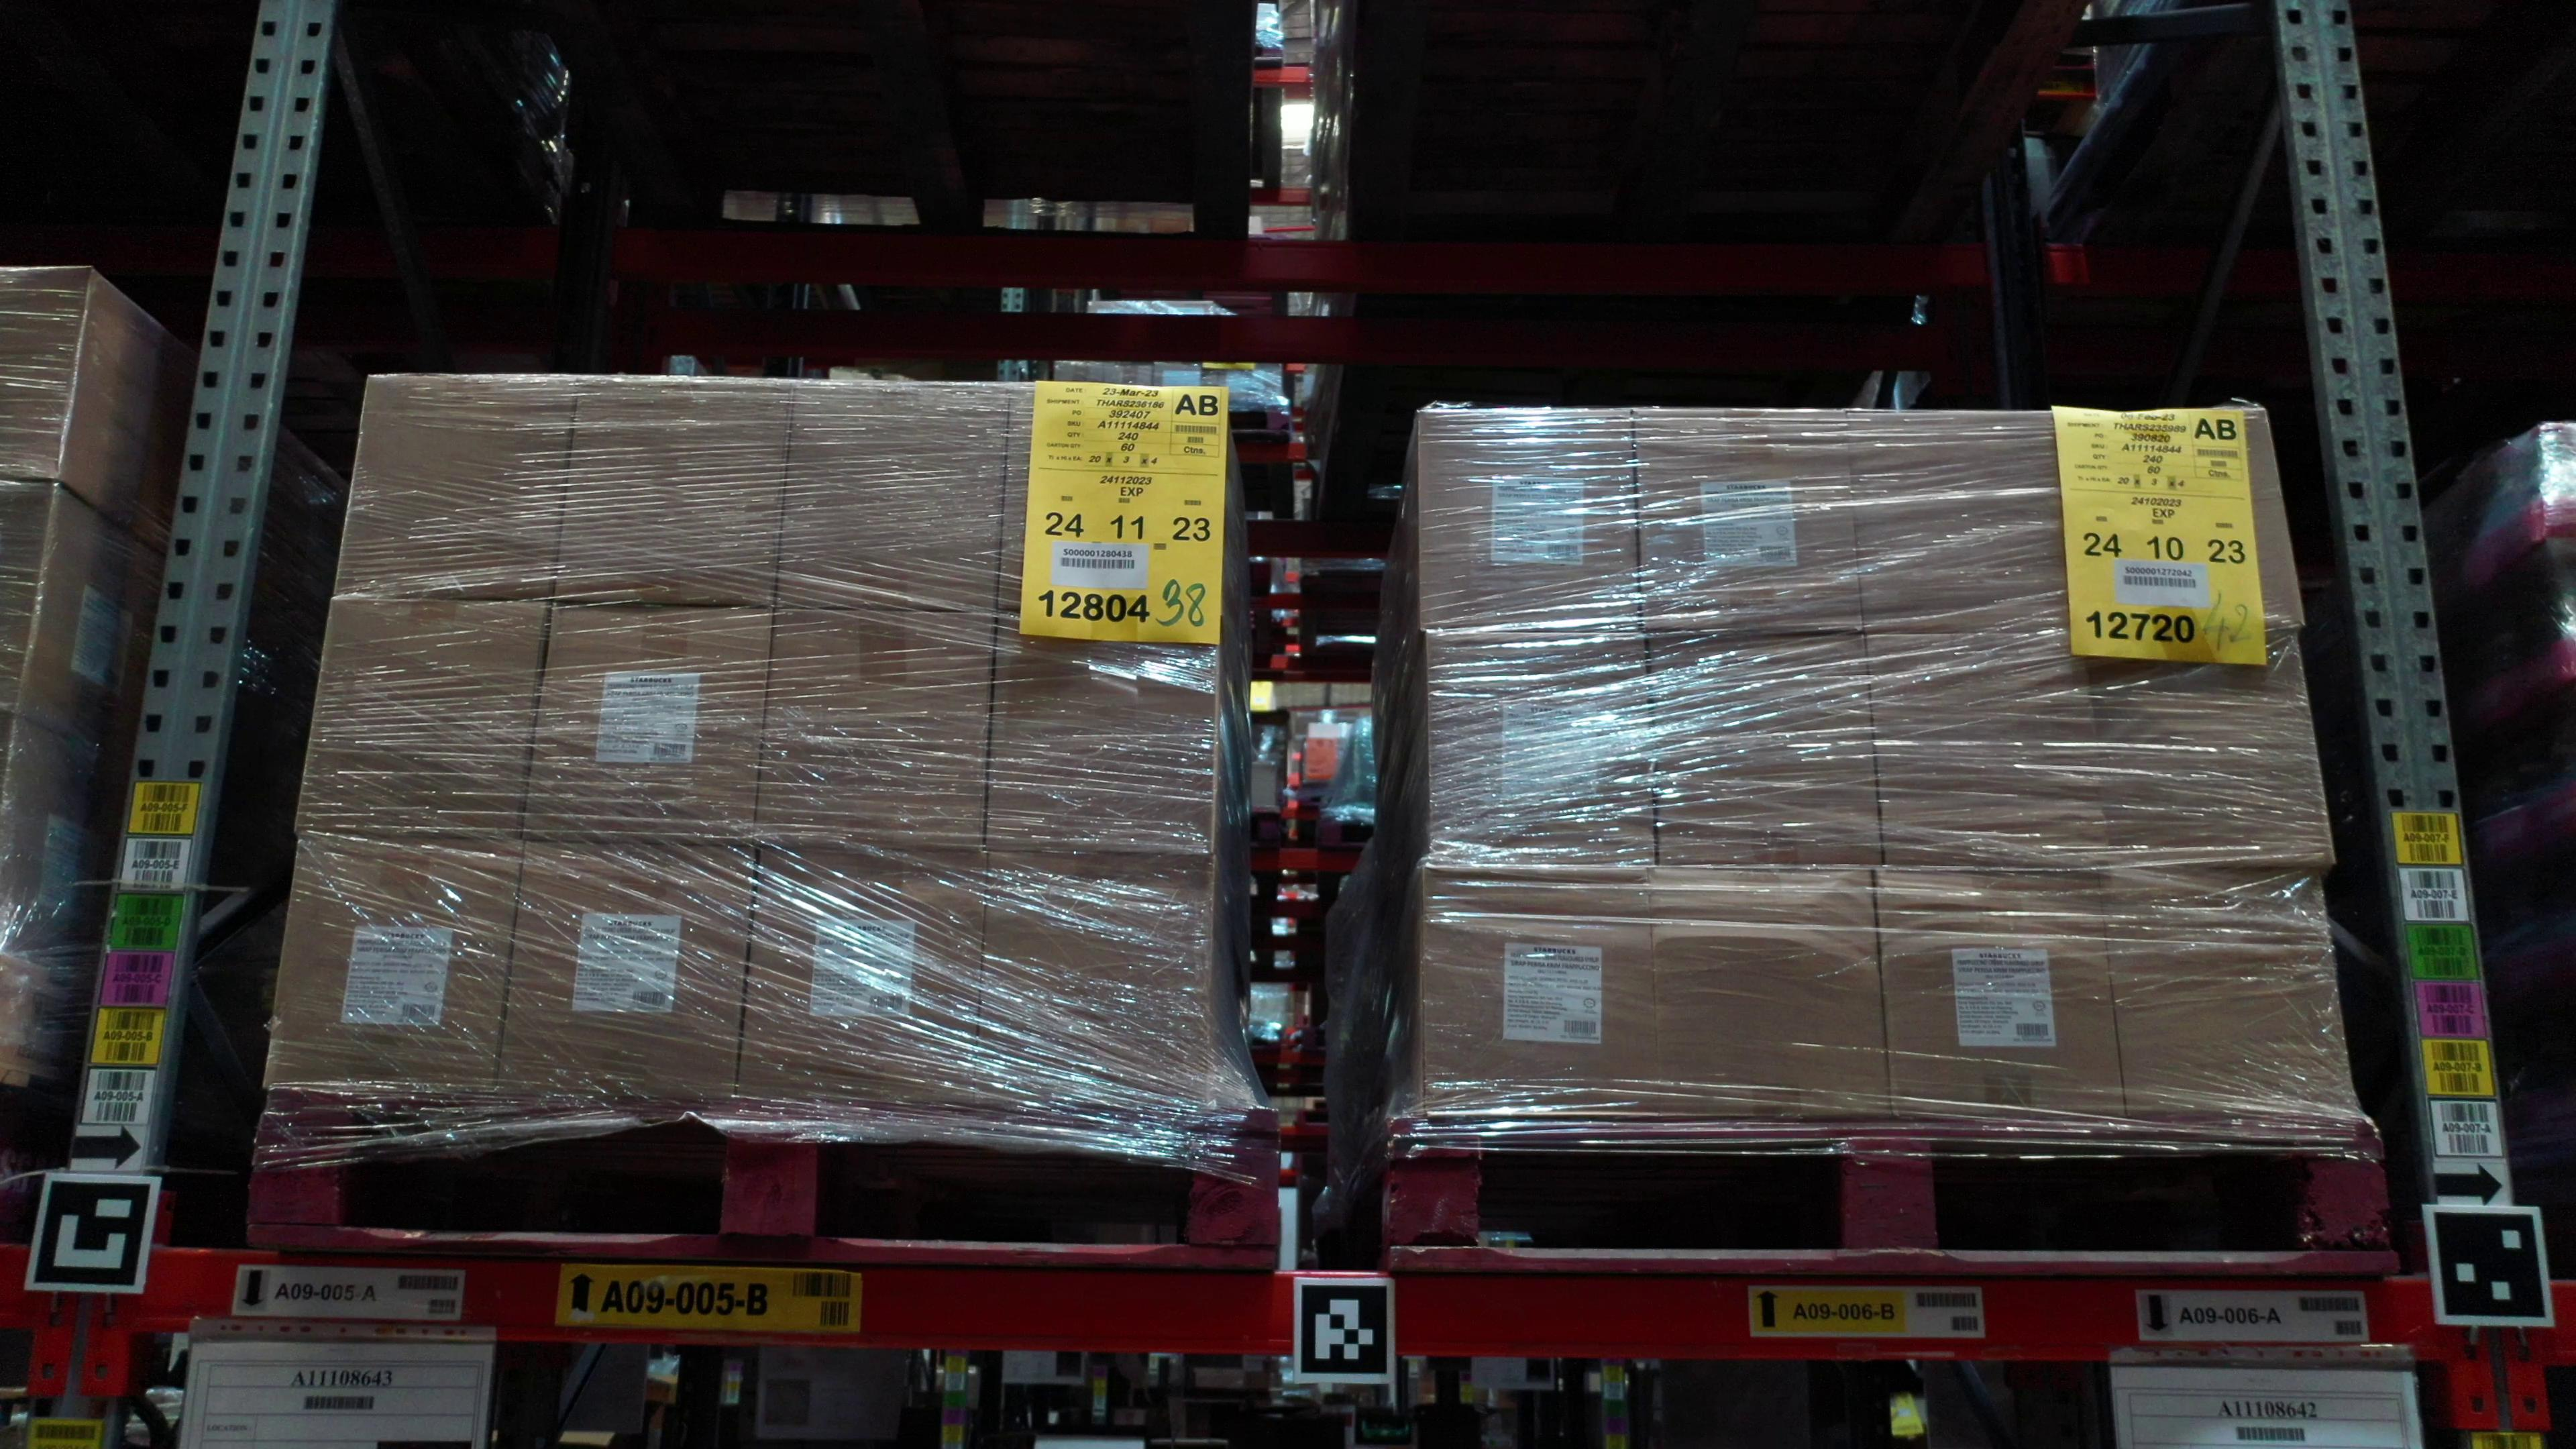-: (494, 837, 761, 1100), (260, 840, 525, 1099), (2100, 867, 2358, 1127), (734, 846, 989, 1108), (1872, 865, 2128, 1122), (295, 600, 552, 846), (1651, 865, 1897, 1120), (975, 847, 1214, 1108), (1865, 630, 2116, 876), (2088, 628, 2335, 874), (524, 603, 777, 842), (1422, 865, 1660, 1120), (984, 610, 1221, 856), (773, 379, 1014, 619), (755, 609, 994, 847), (1647, 628, 1882, 870), (333, 372, 579, 603), (554, 379, 794, 612), (1426, 628, 1654, 874), (1847, 409, 2095, 635), (1633, 405, 1865, 637), (998, 382, 1223, 621), (1415, 409, 1644, 637), (2079, 405, 2304, 633), (0, 265, 94, 483), (0, 476, 58, 720)
